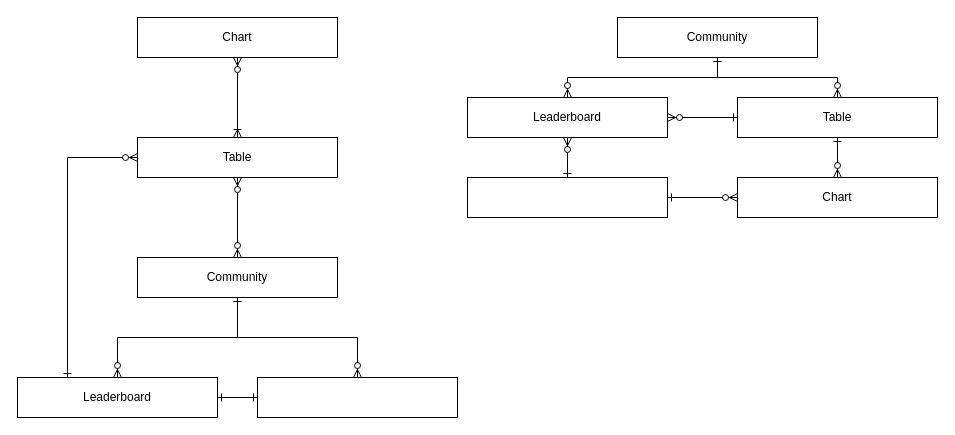
This 955x435 diagram has some shape labels left out. Each missing label, with the centre of its shape:
"Requirement" belongs at pixel 357 397.
"Score" belongs at pixel 567 197.
